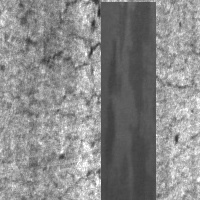crazing: (36, 1, 196, 105), (8, 49, 134, 129), (29, 121, 172, 188)
inclusion: (101, 2, 156, 200)
